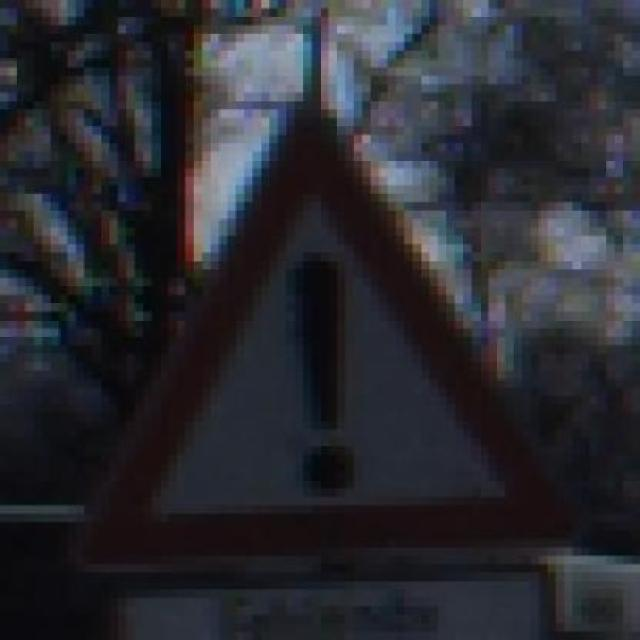Attention Please-: (59, 101, 573, 564)
